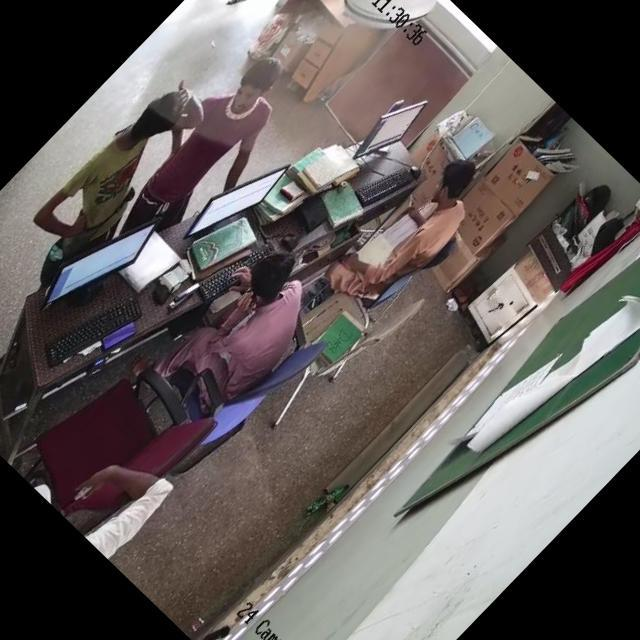person: (40, 78, 208, 250), (334, 150, 498, 317), (132, 56, 291, 218), (190, 243, 336, 390)
